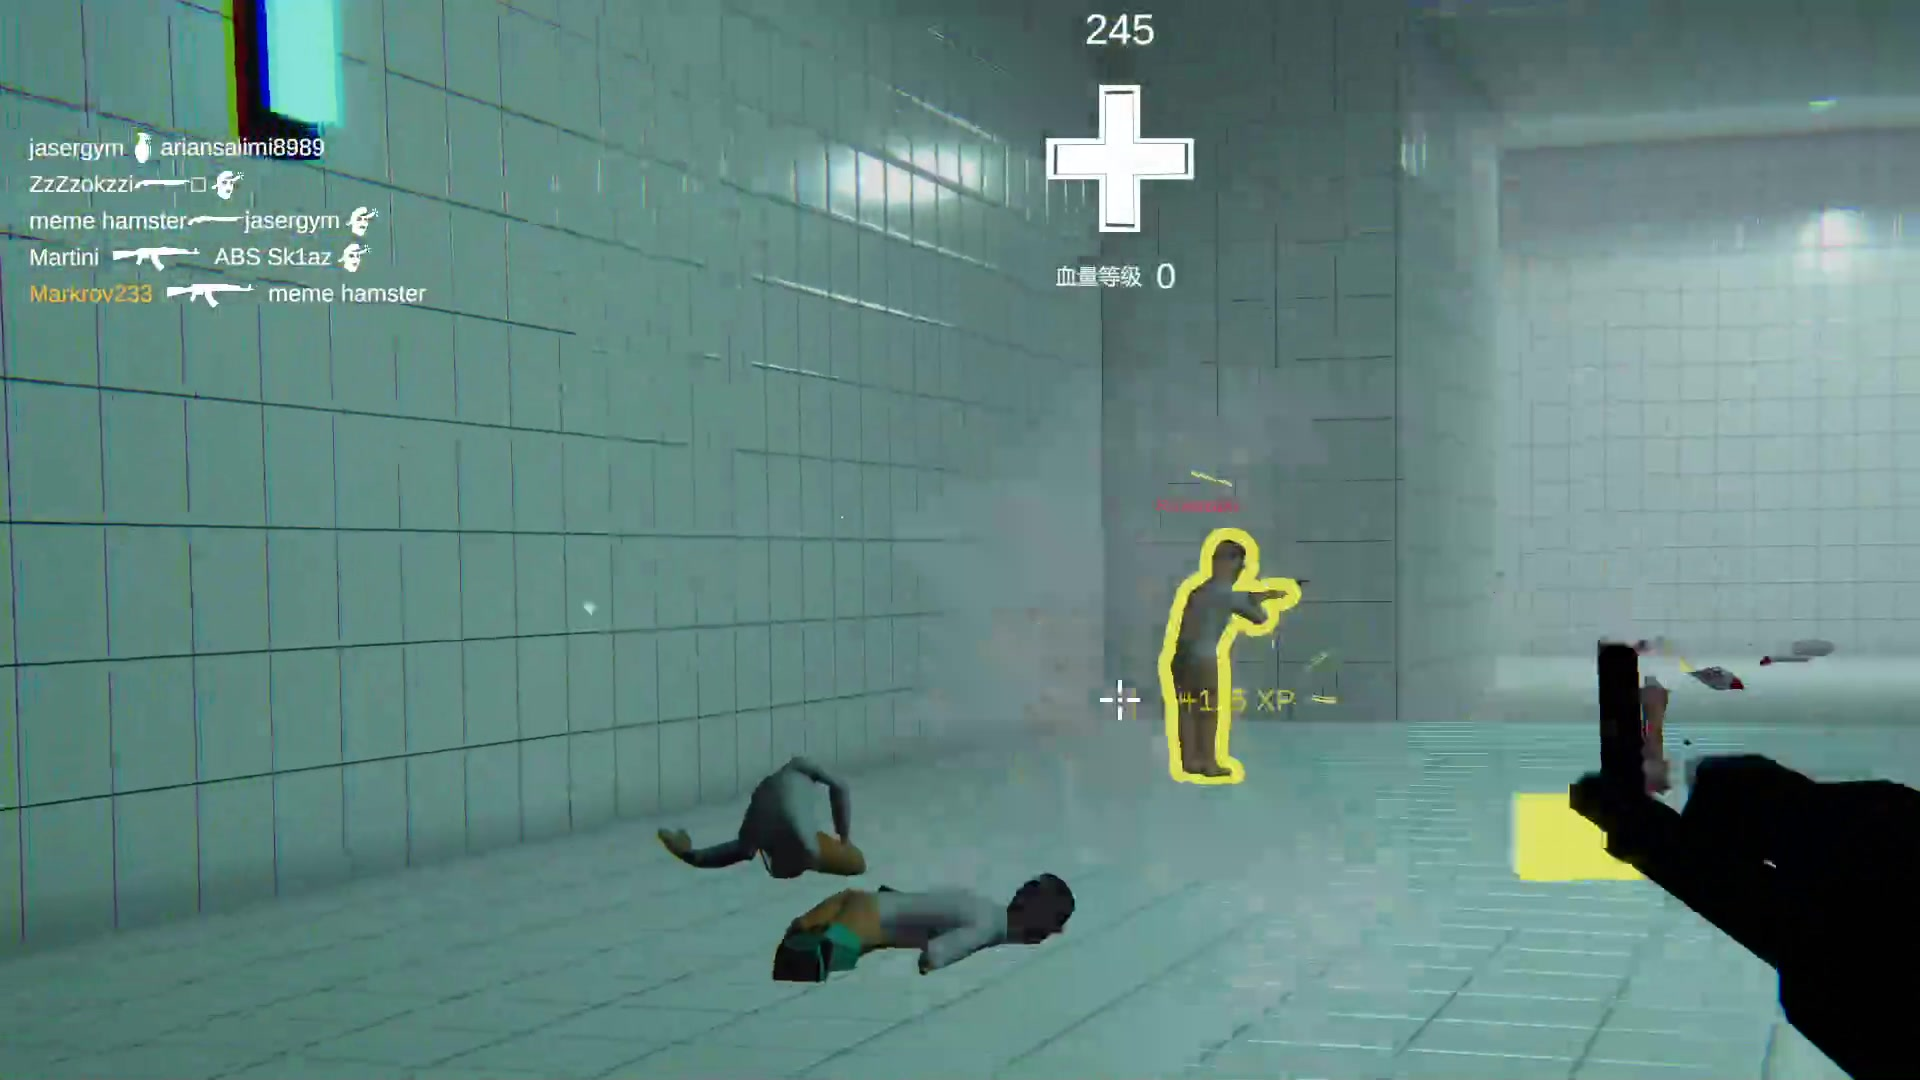died: (813, 882, 1074, 969), (723, 755, 850, 892)
human: (1174, 527, 1254, 776)
